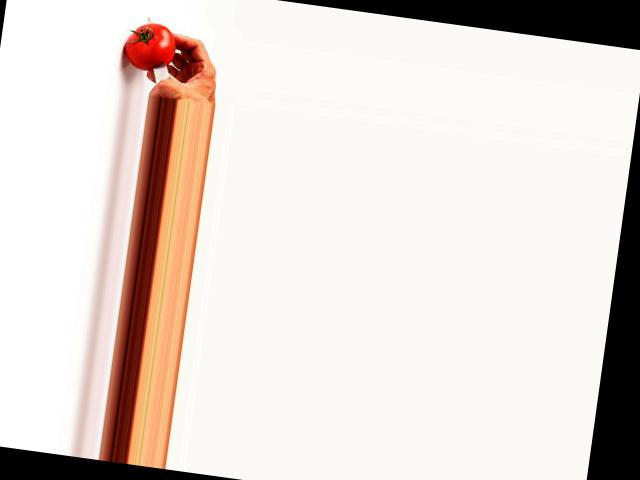tomato: (122, 20, 178, 73)
